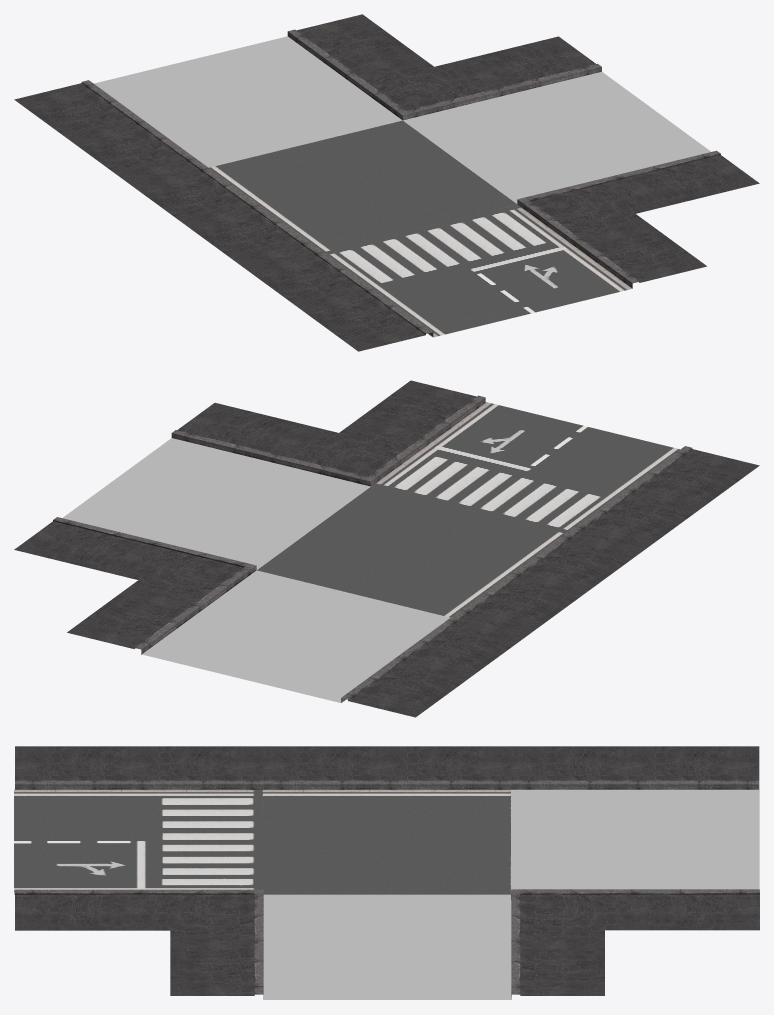
The model's file is 2 lines T intersection.FBX.
3 renders of one model, top to bottom at view 1: azimuth 30°, elevation 25°; view 2: azimuth 150°, elevation 25°; view 3: azimuth 270°, elevation 25°, orthographic. The views are drawn at different scales.
Visible parts, largest first — view 1: Plane120; view 2: Plane120; view 3: Plane120.
Boxes of the visible parts, x1=… form: Plane120: x1=14, y1=14, x2=759, y2=351; Plane120: x1=14, y1=380, x2=759, y2=717; Plane120: x1=14, y1=746, x2=759, y2=999.
Bounding box in the file's own units: 28.48 × 0.3187 × 35.96.
